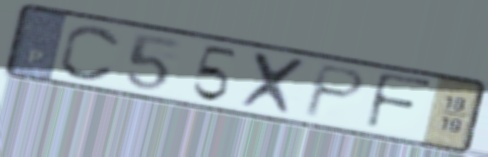5: (124, 30, 186, 93), (189, 42, 240, 102)
C: (56, 22, 124, 84)
F: (362, 69, 436, 133)
P: (299, 62, 369, 121)
X: (236, 49, 315, 120)
